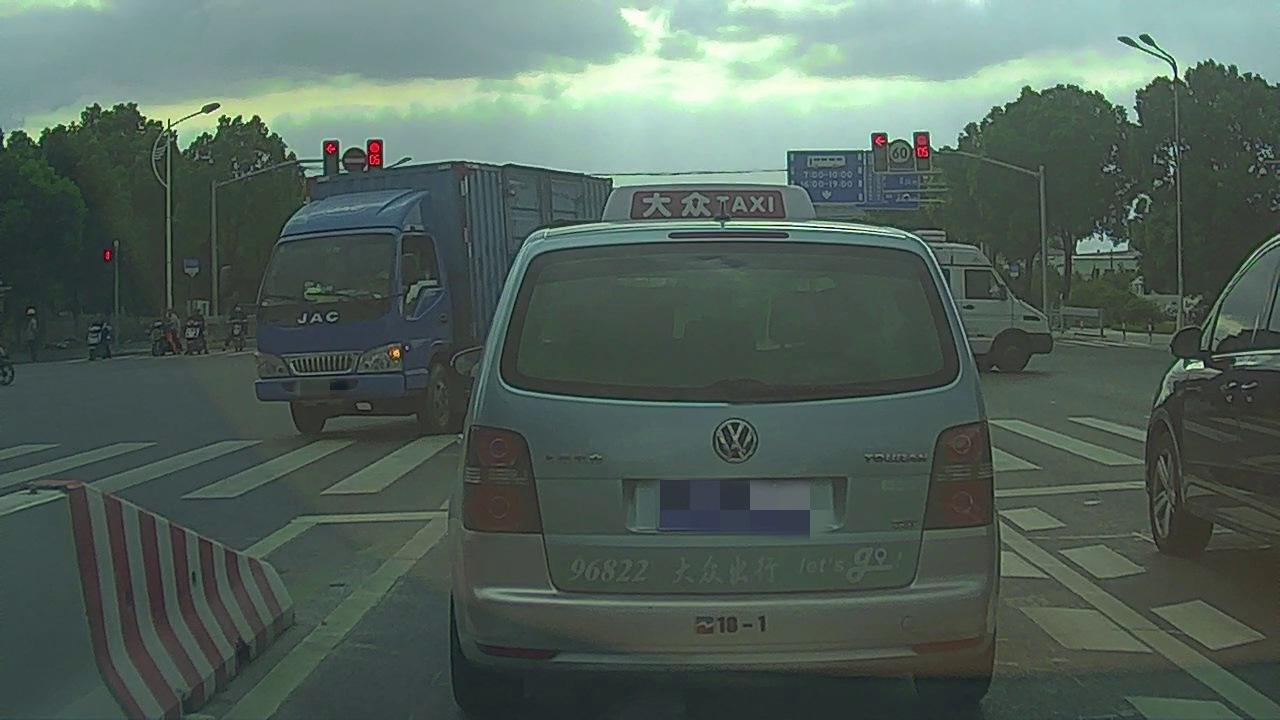traffic_light: (320, 140, 339, 175), (366, 138, 383, 169)
